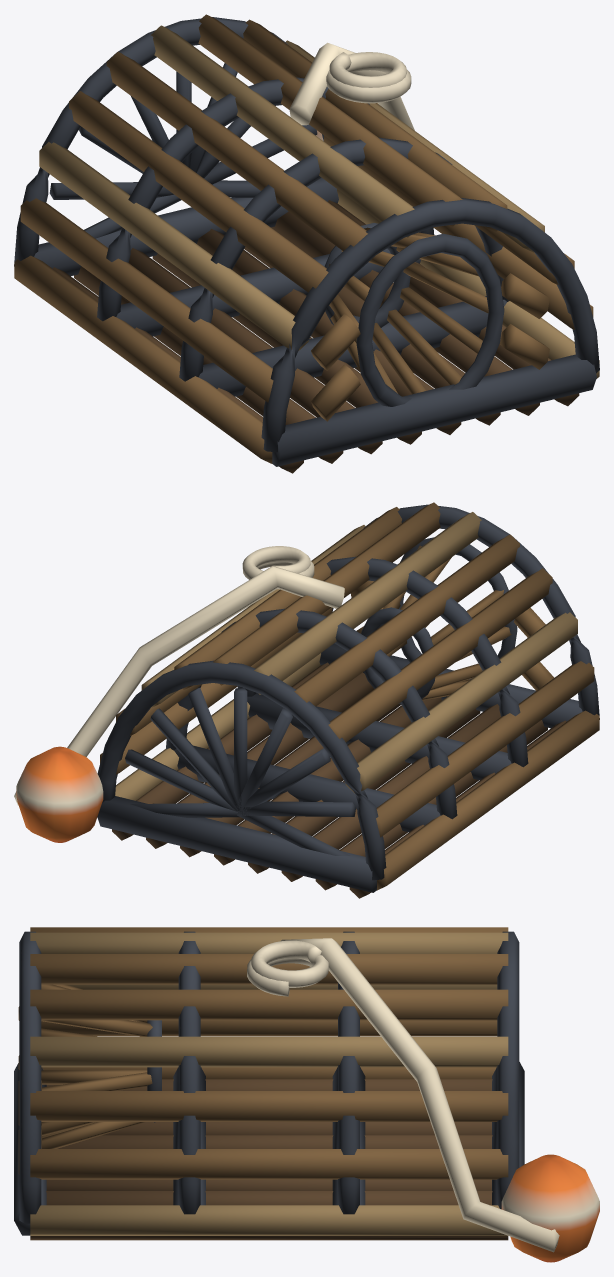
The model's file is deco-nasa.glb.
The picture shows the model from 3 angles, top to bottom: view 1: azimuth 30°, elevation 25°; view 2: azimuth 150°, elevation 25°; view 3: azimuth 270°, elevation 25°; orthographic projection. The views are drawn at different scales.
Visible parts, largest first — view 1: Trap, Rope; view 2: Trap, Rope, Float; view 3: Trap, Rope, Float.
Boxes of the visible parts, box(x1,y1,x2,y2) form: Trap: box(14, 14, 599, 473); Rope: box(289, 42, 414, 130); Trap: box(97, 502, 599, 898); Rope: box(14, 546, 344, 805); Float: box(16, 746, 103, 842); Trap: box(14, 927, 524, 1240); Rope: box(247, 938, 559, 1252); Float: box(501, 1154, 599, 1262).
Bounding box in the file's own units: 0.7774 × 0.4933 × 1.
